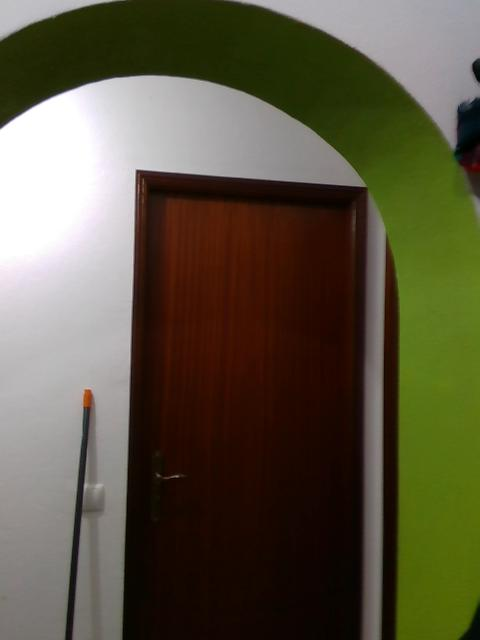door: (153, 195, 352, 640)
